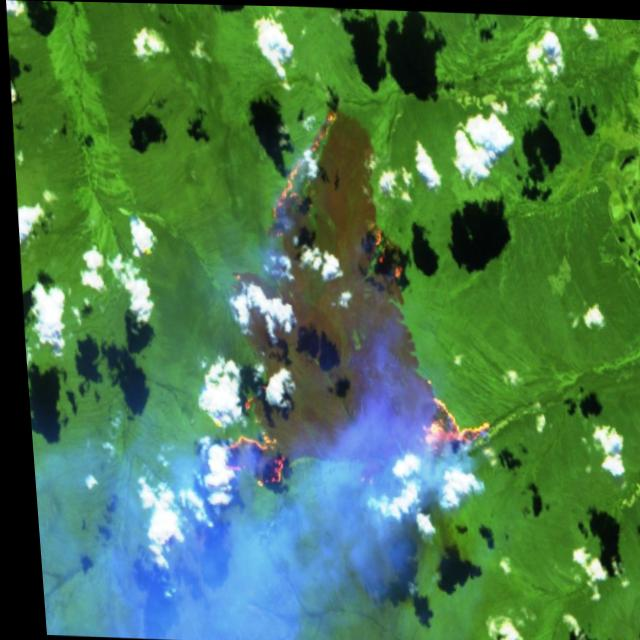fire: (184, 97, 508, 501)
